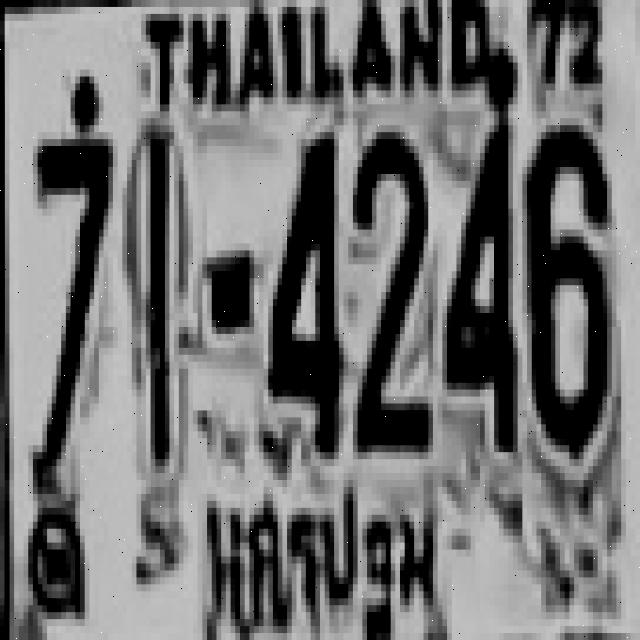2: (350, 125, 426, 418), (348, 129, 424, 393)
4: (263, 125, 339, 452), (442, 118, 512, 445)
6: (522, 121, 606, 448)
7: (32, 132, 108, 410)
NakhonPathom: (186, 486, 446, 640)
